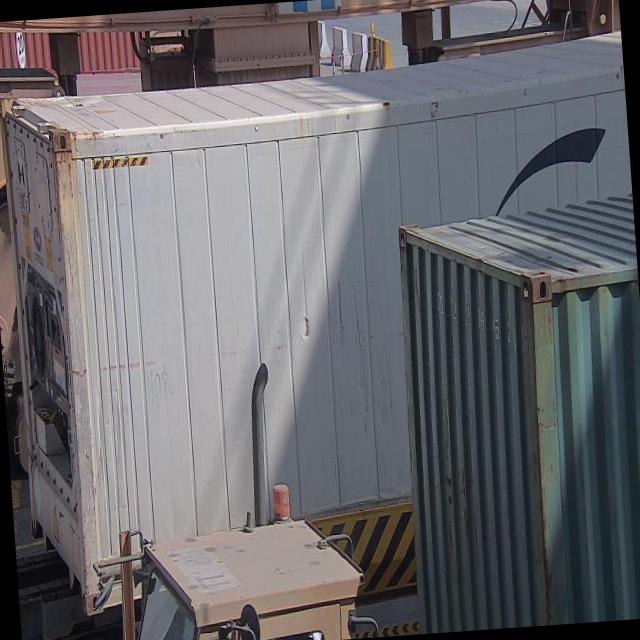Deframe_or_Dent: (295, 272, 354, 366)
Rust: (38, 107, 79, 192)
